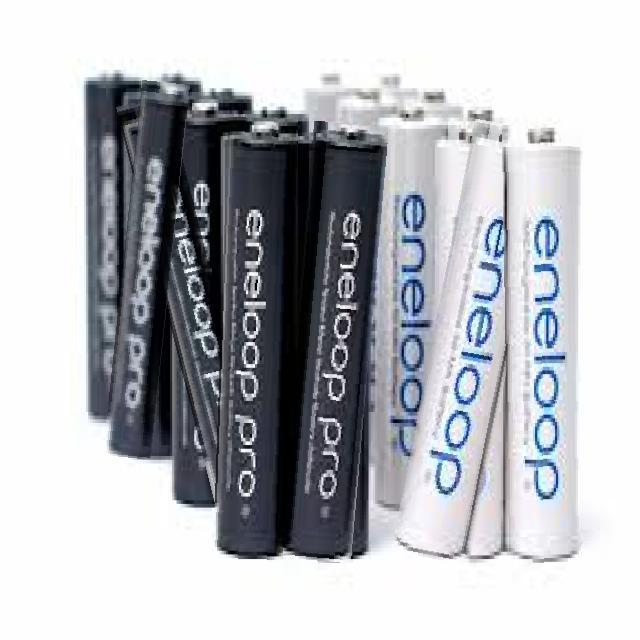Battery: (388, 140, 510, 560), (284, 123, 378, 562), (217, 121, 308, 562), (502, 117, 578, 567), (171, 95, 251, 507), (373, 101, 448, 507), (81, 64, 146, 423), (372, 62, 424, 106), (441, 104, 509, 136), (301, 67, 353, 103)
